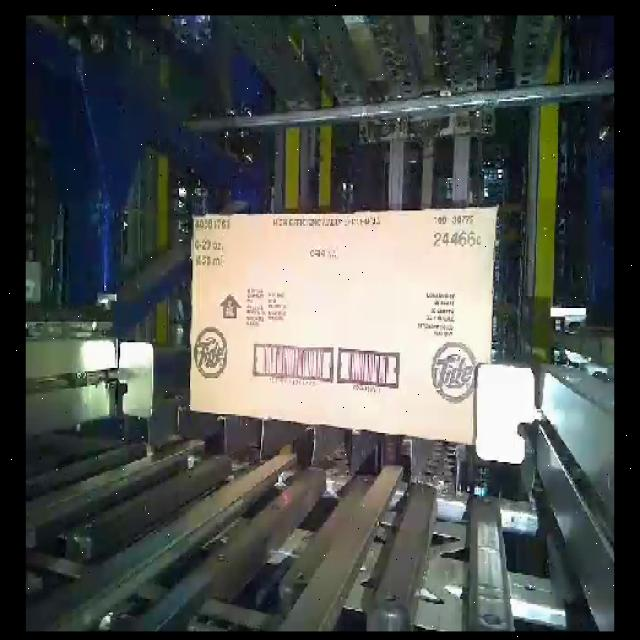box: (188, 200, 497, 445)
